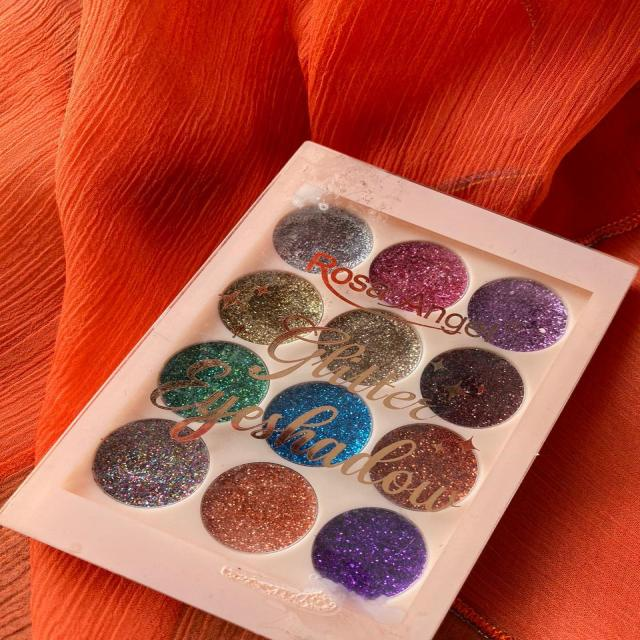eye shade: (183, 448, 325, 560), (243, 367, 385, 472), (303, 499, 434, 610), (343, 409, 486, 508), (85, 402, 209, 510), (403, 334, 535, 432), (298, 299, 428, 397), (205, 260, 337, 354), (459, 264, 581, 356), (152, 336, 276, 419), (363, 216, 467, 308), (263, 199, 378, 279)
